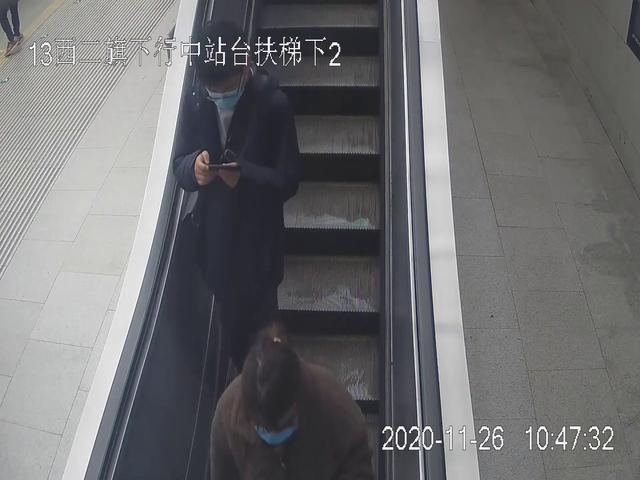person: (170, 20, 301, 391), (209, 338, 375, 480)
